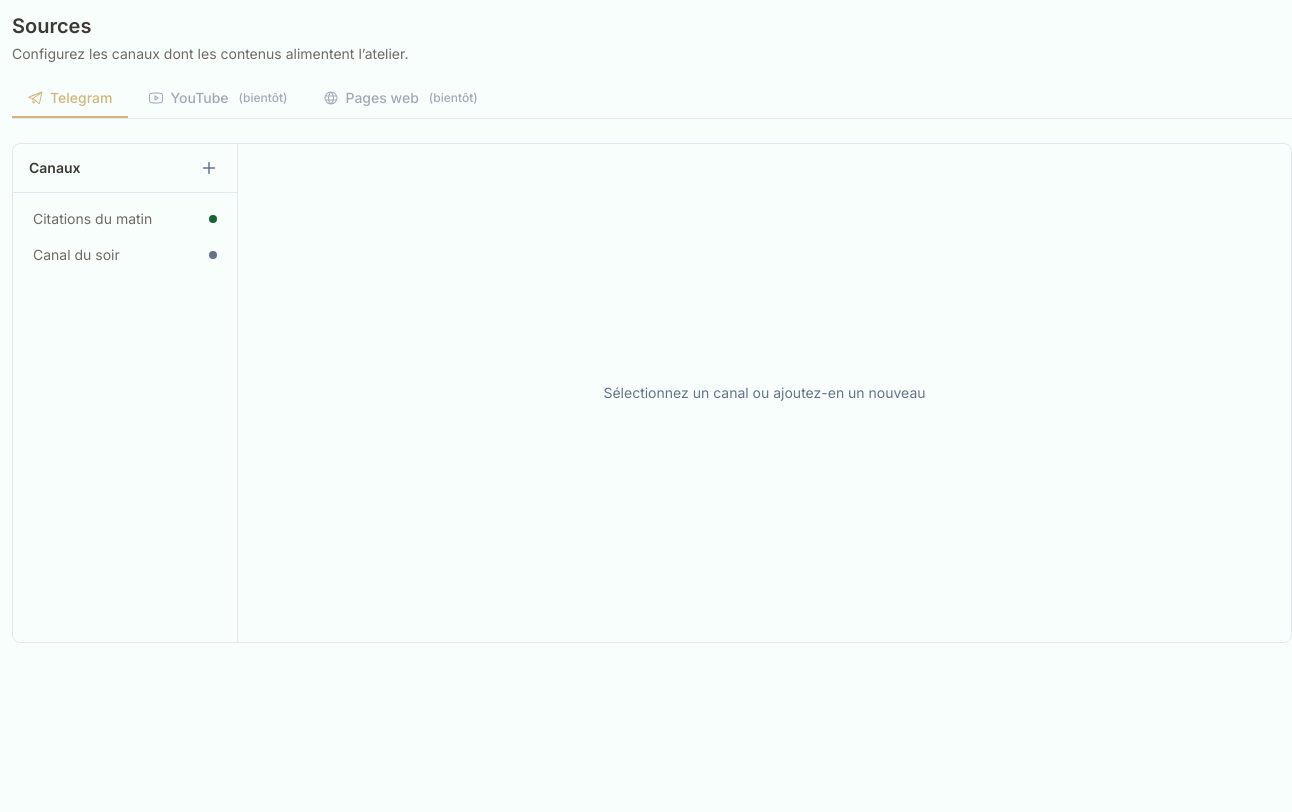
it: SourcesPage › affiche le diagnostic (dernière erreur) du canal sélectionné
Click the button with test id "canal-item-2".
click(125, 255)  # box [21,237,229,273]
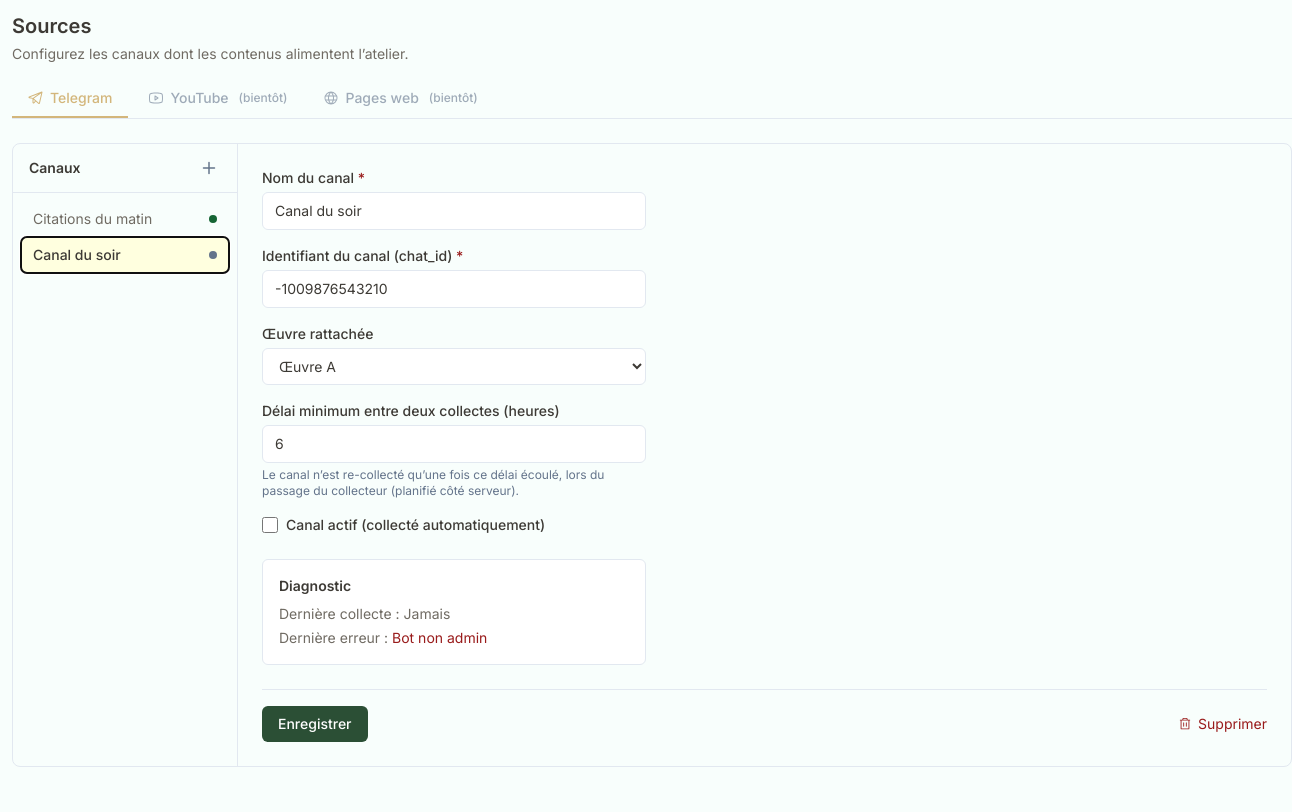
Check: the text "Bot non admin" is shown, box [392,629,487,646]
